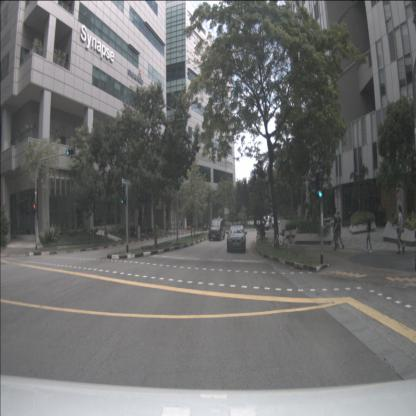human-pedestrian-adult: (396, 205, 405, 255), (334, 211, 345, 250), (332, 211, 340, 251), (364, 212, 372, 252)
vehicle-bicycle: (272, 228, 290, 250), (288, 228, 294, 244)
vehicle-car: (227, 225, 246, 252), (209, 218, 226, 241), (262, 216, 272, 230), (269, 217, 276, 227)
vehicle-motorcycle: (203, 222, 207, 231)
